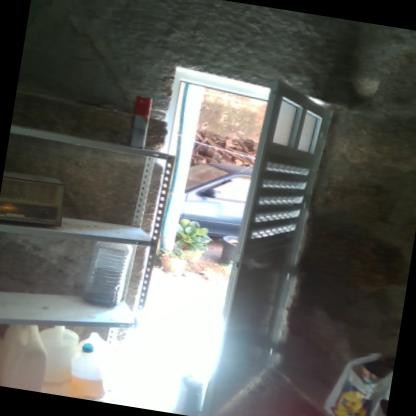semi: (107, 51, 348, 415)
